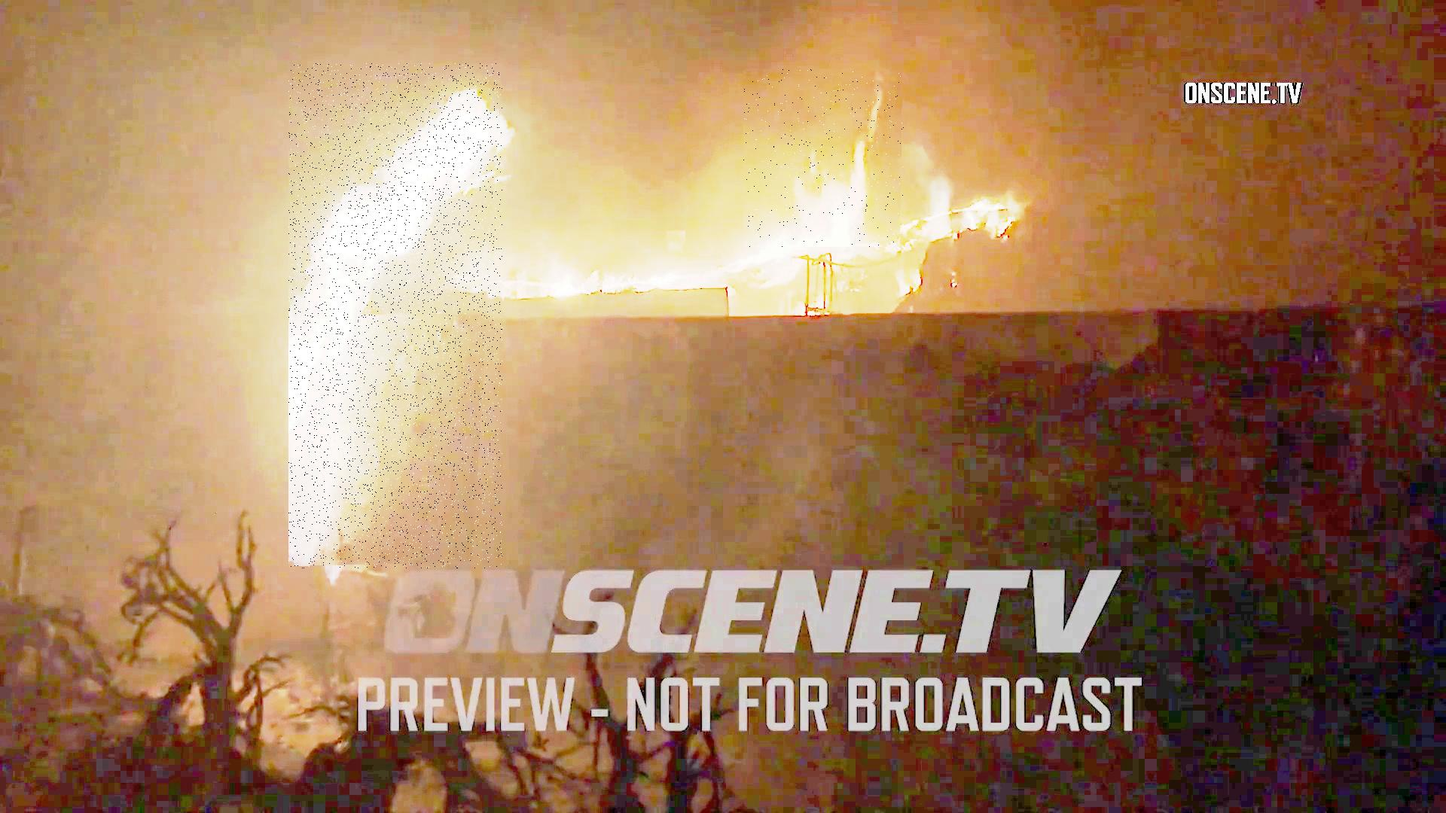fire: (288, 64, 502, 569), (744, 70, 904, 249)
